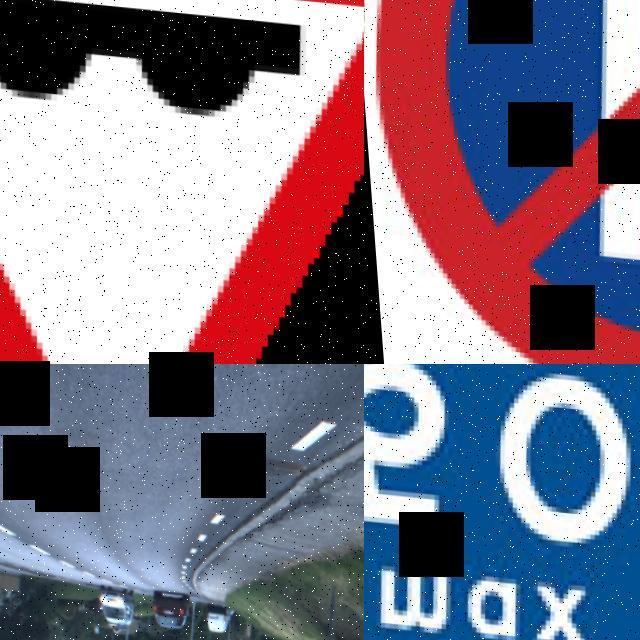102: (364, 364, 640, 640)
28: (364, 0, 640, 364)
Uneven road: (0, 0, 364, 364)
